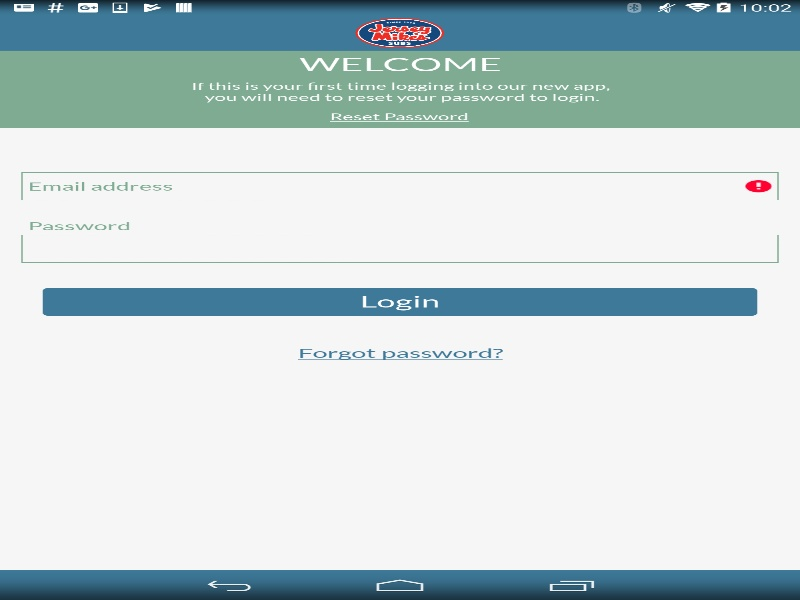Button: (42, 287, 757, 315)
Input: (21, 172, 778, 200), (21, 234, 778, 262)
